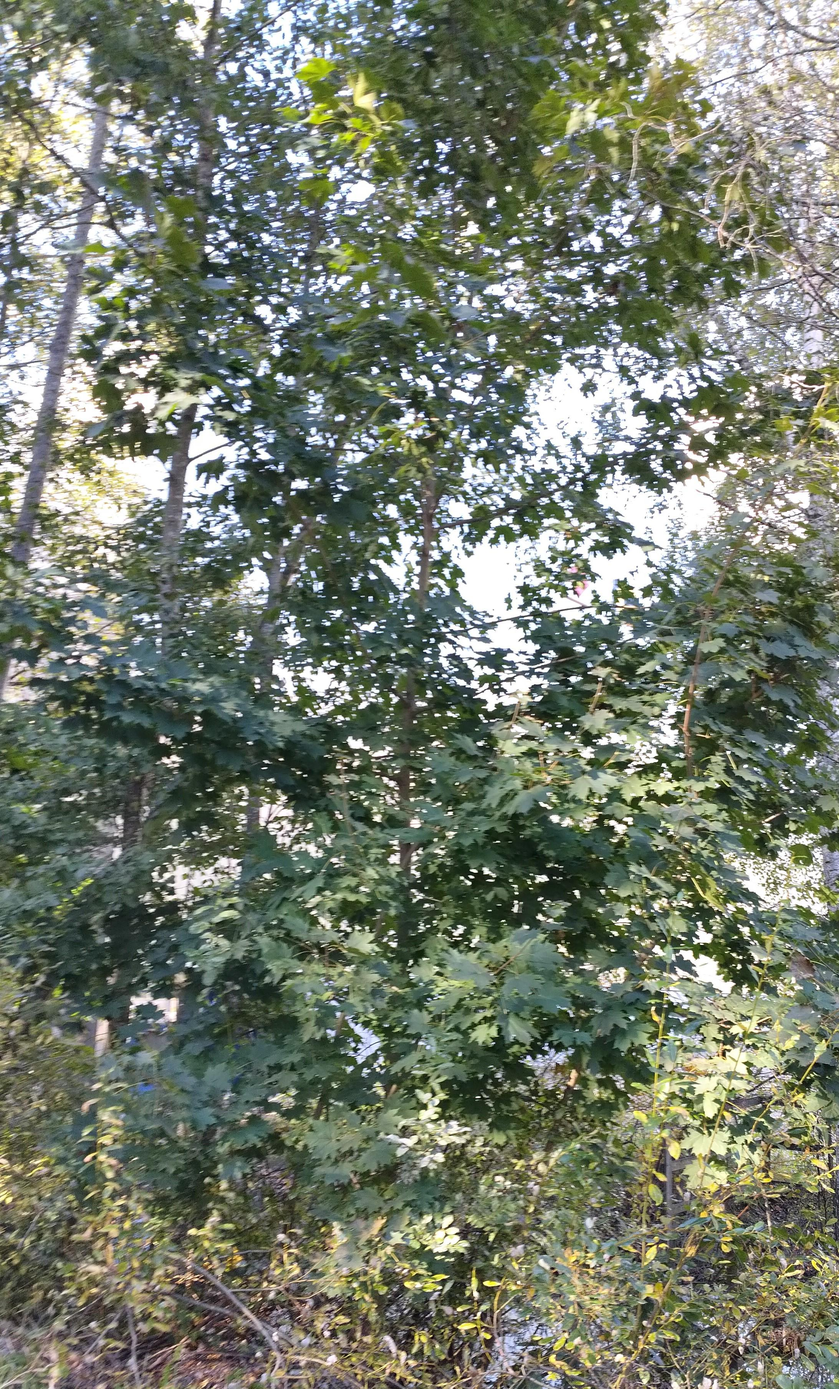Maple: (88, 2, 720, 1382)
